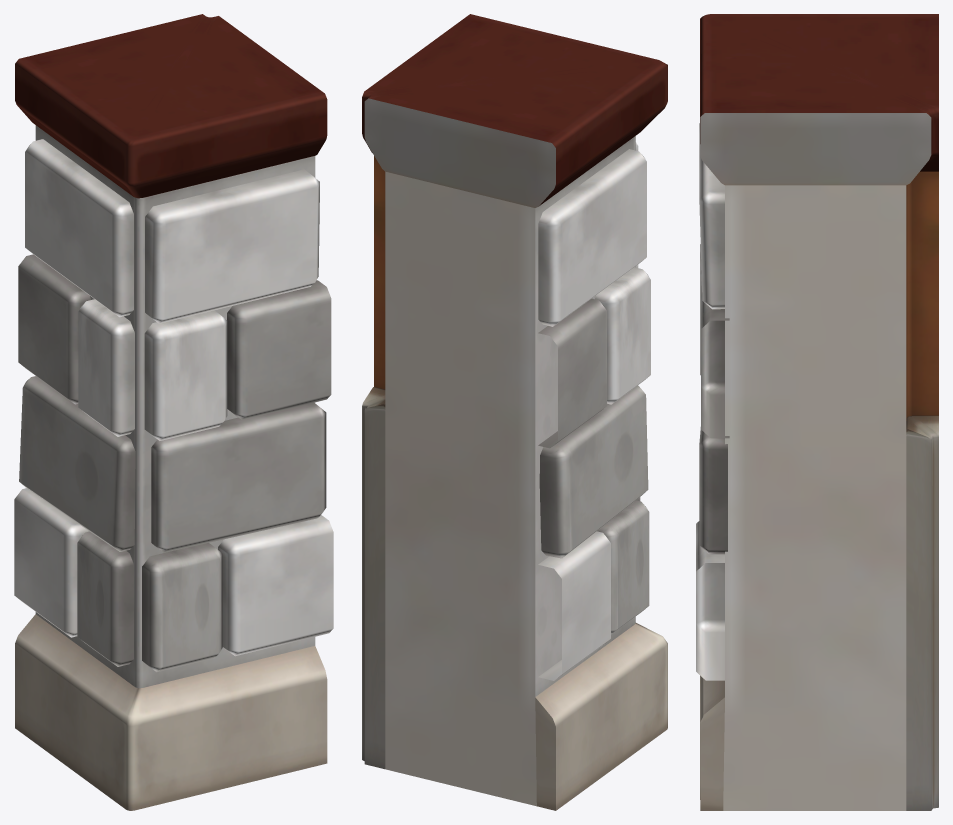
File: Wall_Corner.fbx
3 renders of one model, left to right at view 1: azimuth 30°, elevation 25°; view 2: azimuth 150°, elevation 25°; view 3: azimuth 270°, elevation 25°, orthographic. The views are drawn at different scales.
Visible parts, largest first — view 1: m_city_wall_right_angle_01; view 2: m_city_wall_right_angle_01, m_city_wall_right_angle_inside; view 3: m_city_wall_right_angle_01, m_city_wall_right_angle_inside.
Part boxes in pixels (box(x1,y1,x2,y2)): m_city_wall_right_angle_01: box(14, 14, 333, 810); m_city_wall_right_angle_01: box(362, 14, 667, 810); m_city_wall_right_angle_inside: box(362, 91, 385, 760); m_city_wall_right_angle_01: box(696, 14, 938, 810); m_city_wall_right_angle_inside: box(906, 107, 938, 810).
Size of the model in its own units: 65.01 by 200 by 63.06.
